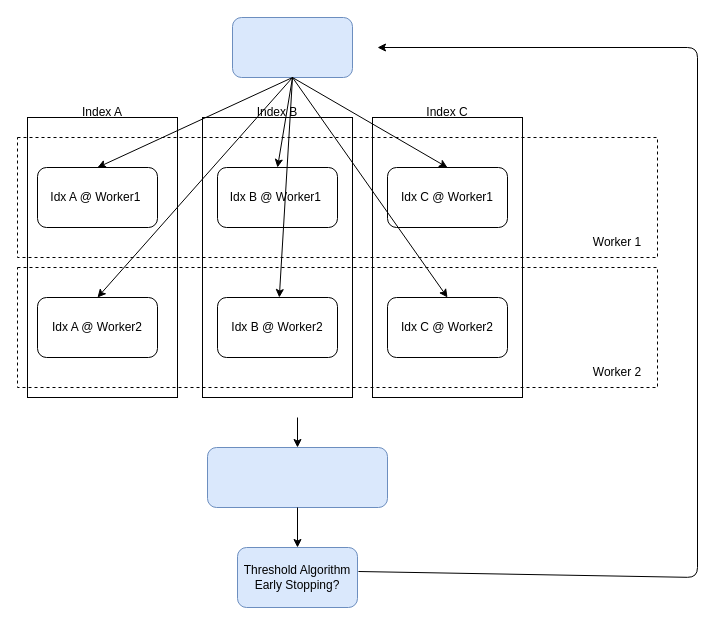
Some shapes in this 723 by 625 pixel diagram are drawn without their labels. The shapes that lost their labels are listed below. From the top down, each one's centre as x and y in pixels, then its label:
At [292,47]: "Scheduler".
At [297,477]: "Global Priority Queue".
